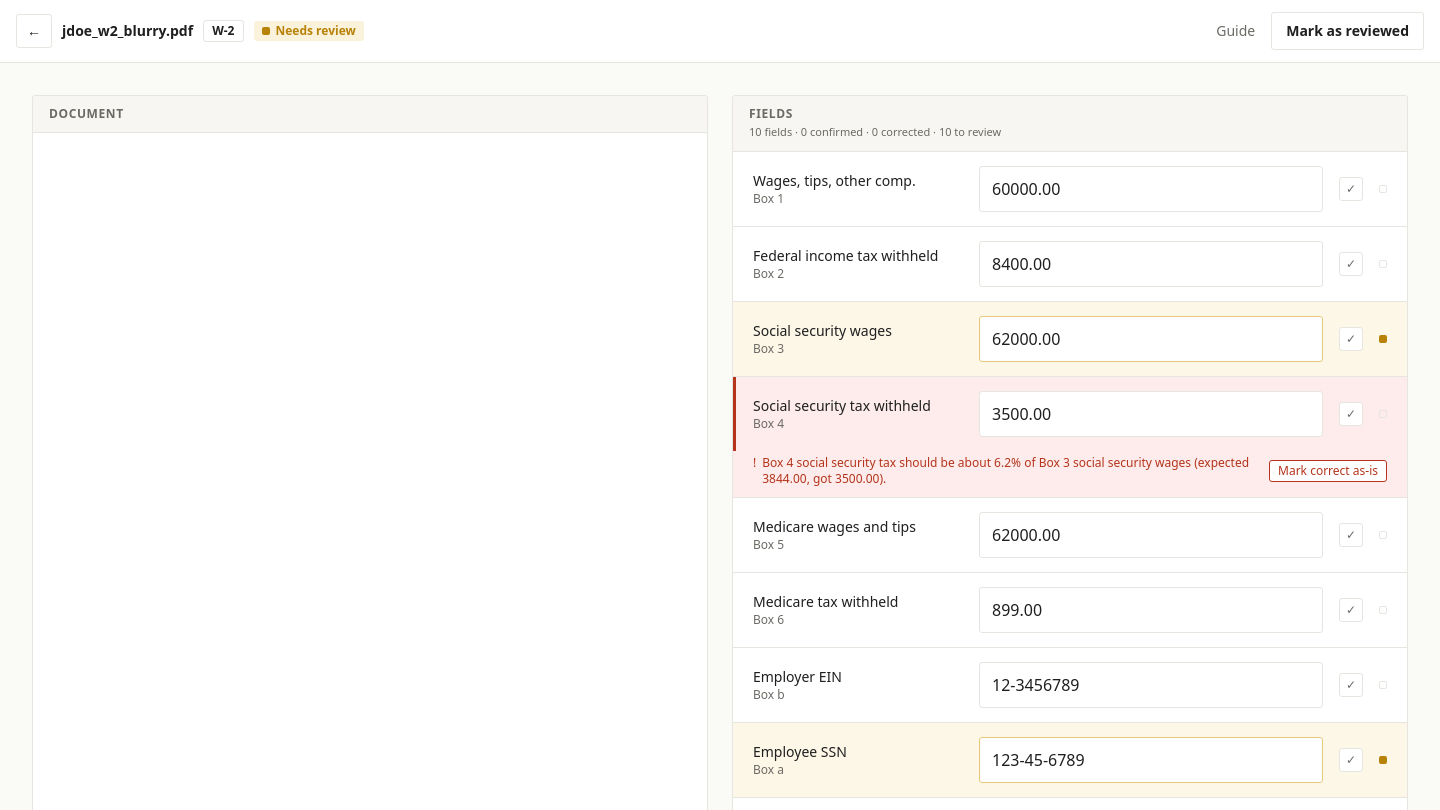
Test case: renders fields and highlights the clicked field
The width and height of the screenshot is (1440, 810).
Expected: the text "jdoe_w2_blurry.pdf" is shown, [62,21,193,41]
Click the text "Wages, tips, other comp." at coordinates (834, 180), box [753,170,916,190]
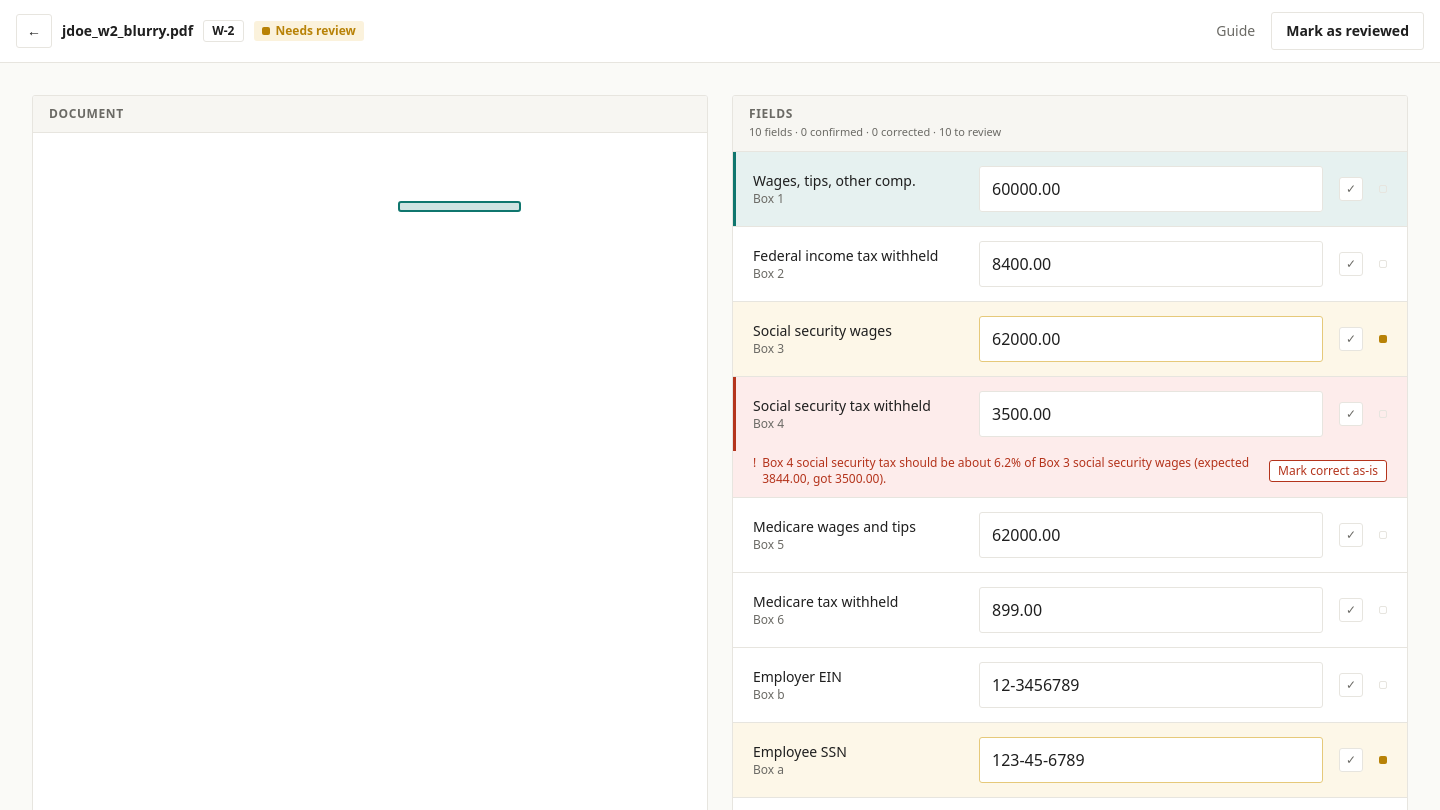
Expected: the element with test id "bbox-highlight" is shown, [398,201,521,212]
